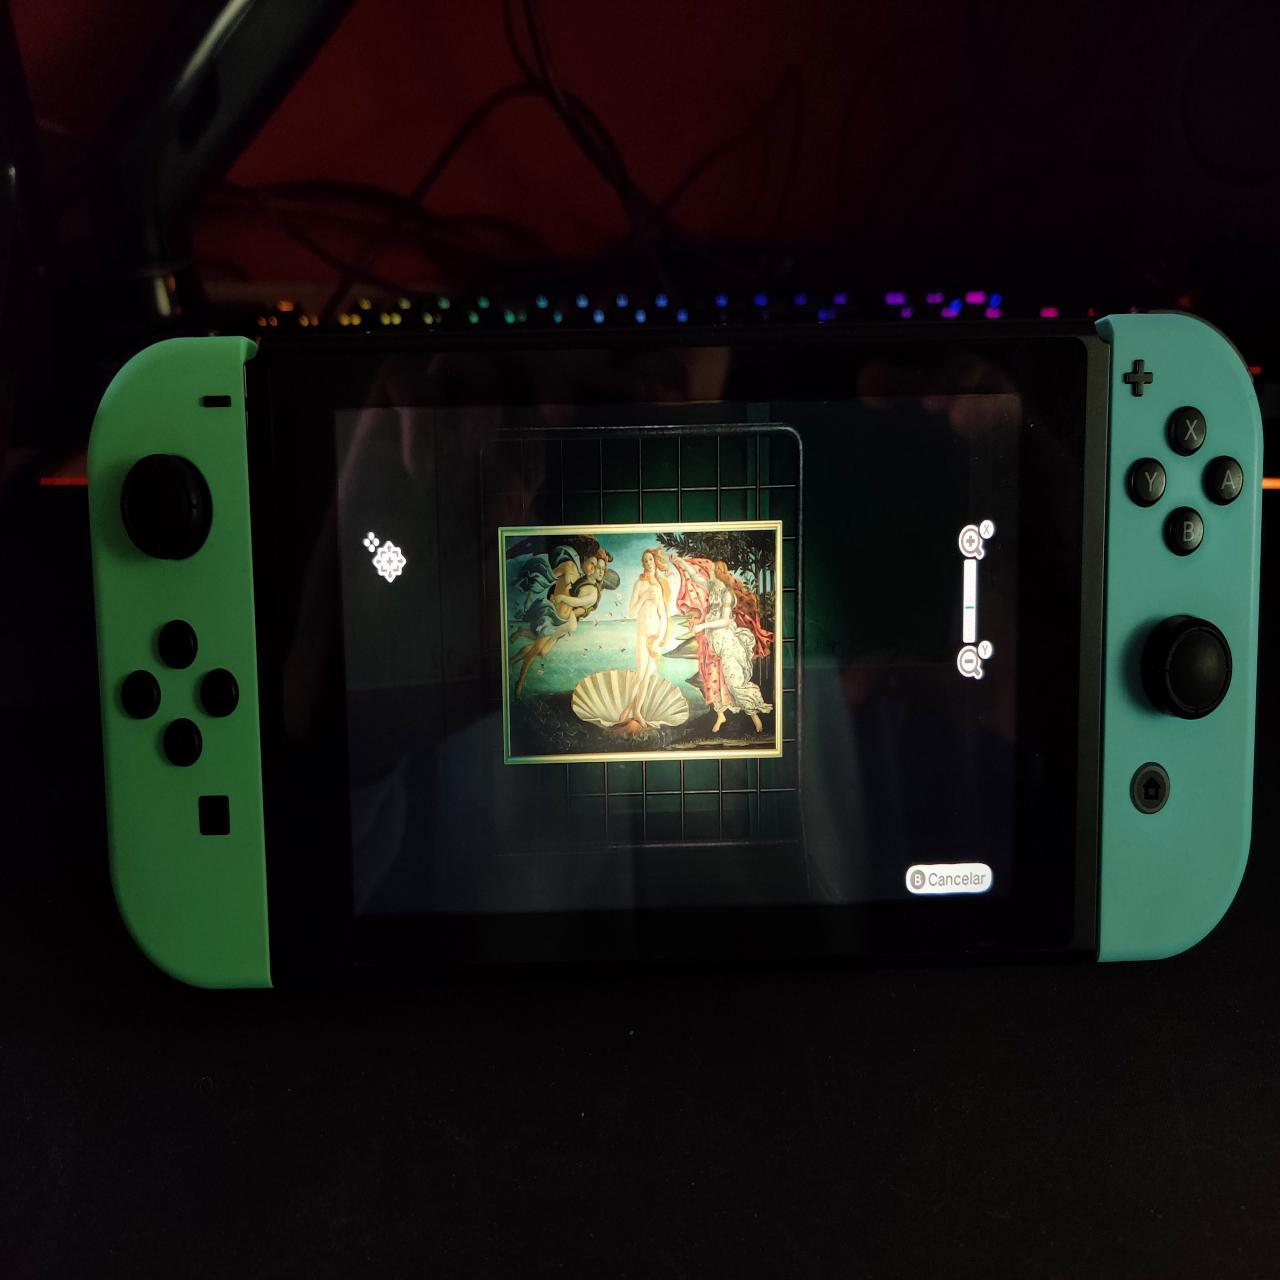BirthVenus: (508, 537, 782, 751)
